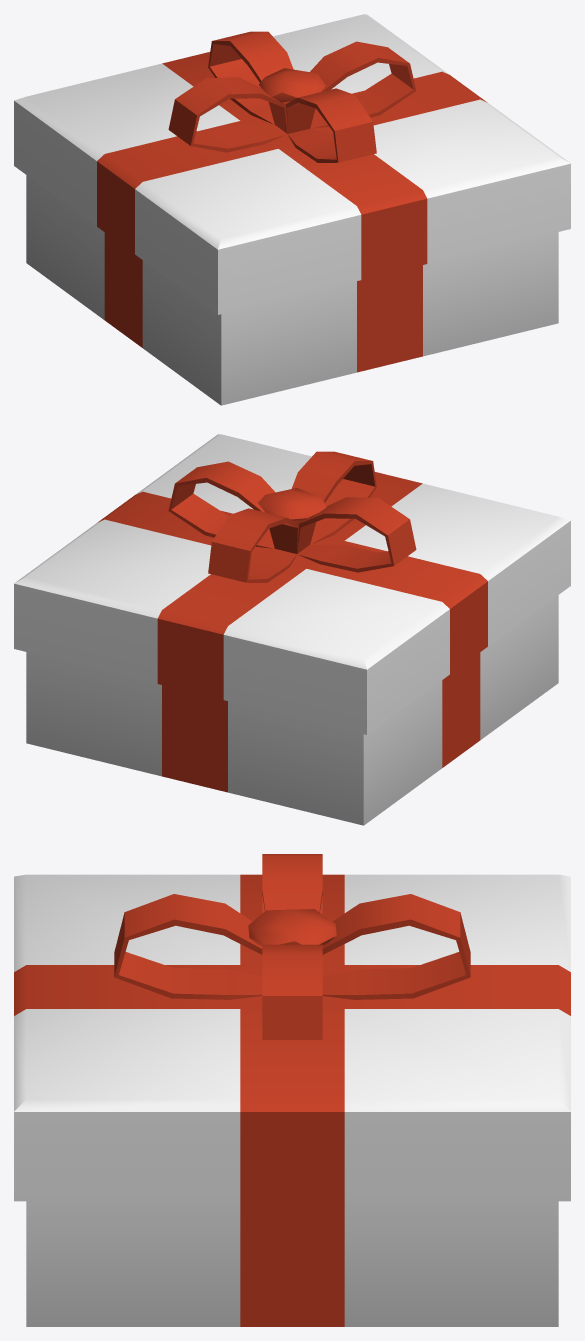
Rendered from GiftBox_04.glb.
3 views of the same model, one above another, from view 1: azimuth 30°, elevation 25°; view 2: azimuth 150°, elevation 25°; view 3: azimuth 270°, elevation 25° (orthographic). The views are drawn at different scales.
Visible parts, largest first — view 1: GiftBox_04; view 2: GiftBox_04; view 3: GiftBox_04.
Part boxes in pixels (left/top/right/bottom): GiftBox_04: left=14, top=14, right=570, bottom=405; GiftBox_04: left=14, top=434, right=570, bottom=825; GiftBox_04: left=14, top=854, right=570, bottom=1326.
Bounding box in the file's own units: 0.4996 × 0.3046 × 0.4996.
Materials: 1 (1 with a texture image).
